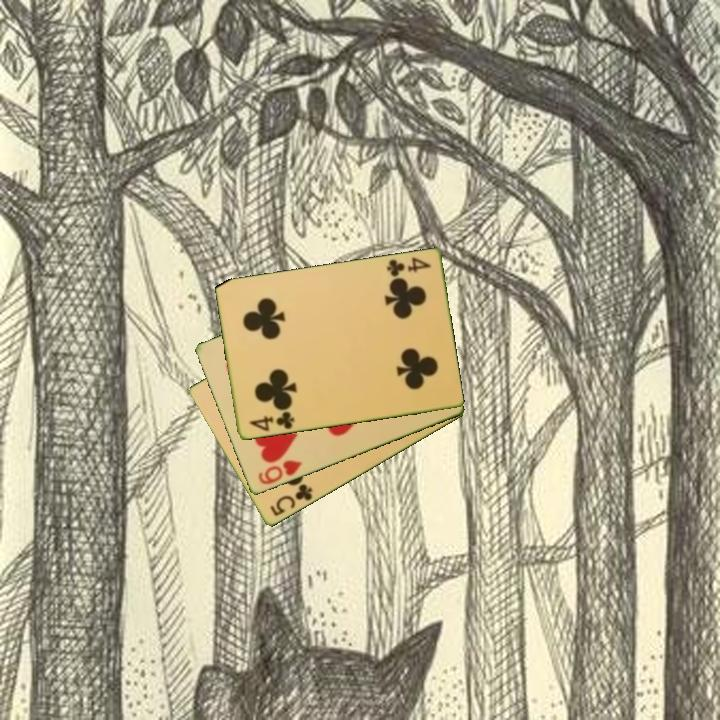4c: (246, 408, 297, 434), (383, 254, 433, 280)
5c: (266, 481, 315, 520)
6h: (254, 457, 305, 488)
